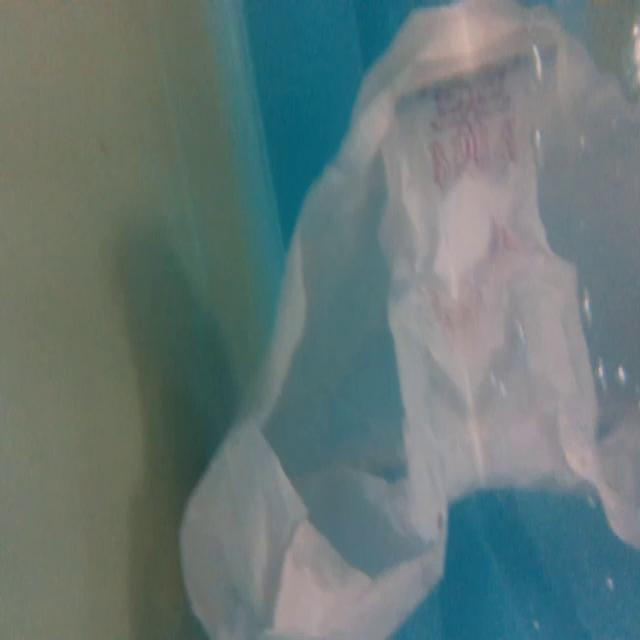plastic bags: (176, 0, 640, 636)
